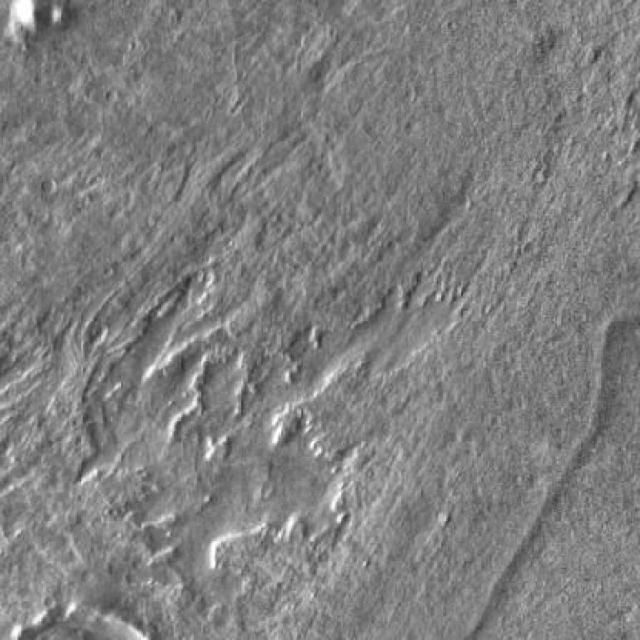crater: (41, 178, 57, 193)
